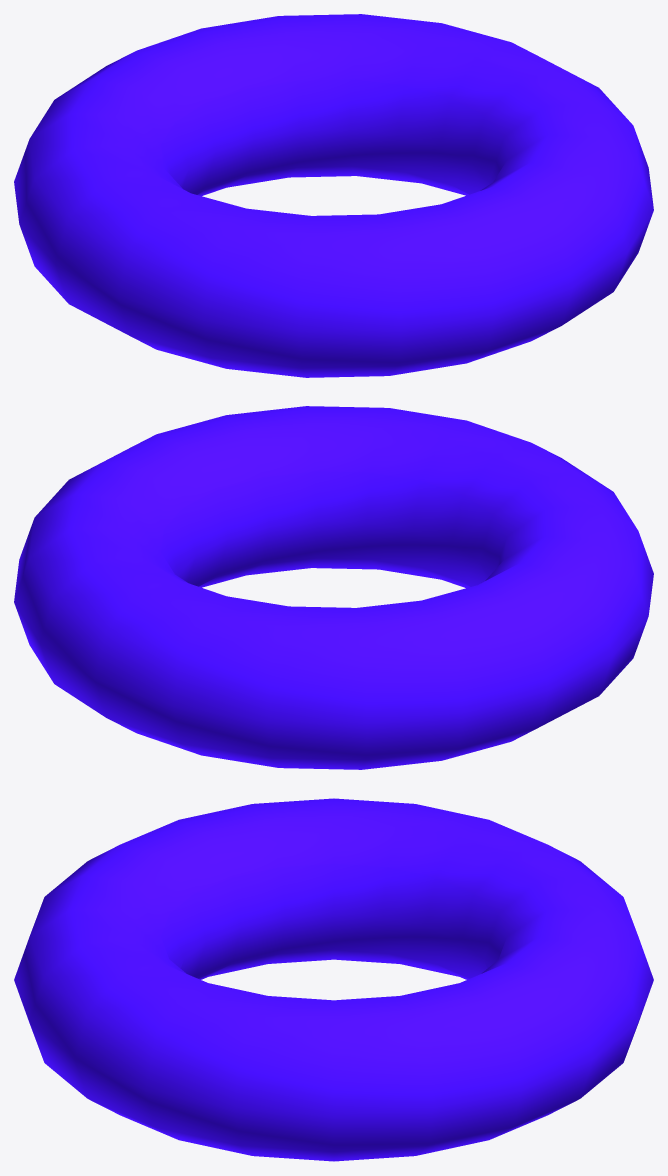
The model's file is 2ab58e0c-c5e5-4bed-918c-33d5eaa86810.glb.
The picture shows the model from 3 angles, top to bottom: view 1: azimuth 30°, elevation 25°; view 2: azimuth 150°, elevation 25°; view 3: azimuth 270°, elevation 25°; orthographic projection.
Visible parts, largest first — view 1: BaseToroids.006; view 2: BaseToroids.006; view 3: BaseToroids.006.
Boxes of the visible parts, x1,y1,x2,y2 form: BaseToroids.006: (14,14,653,377); BaseToroids.006: (14,406,653,769); BaseToroids.006: (14,798,653,1161).
Size of what is drawn, in the model's own units: 0.9438 by 0.2278 by 0.9438.
Materials: 1 (1 with a texture image).
